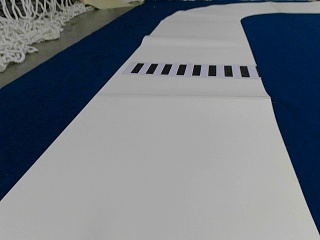crosswalk: (130, 61, 249, 78)
